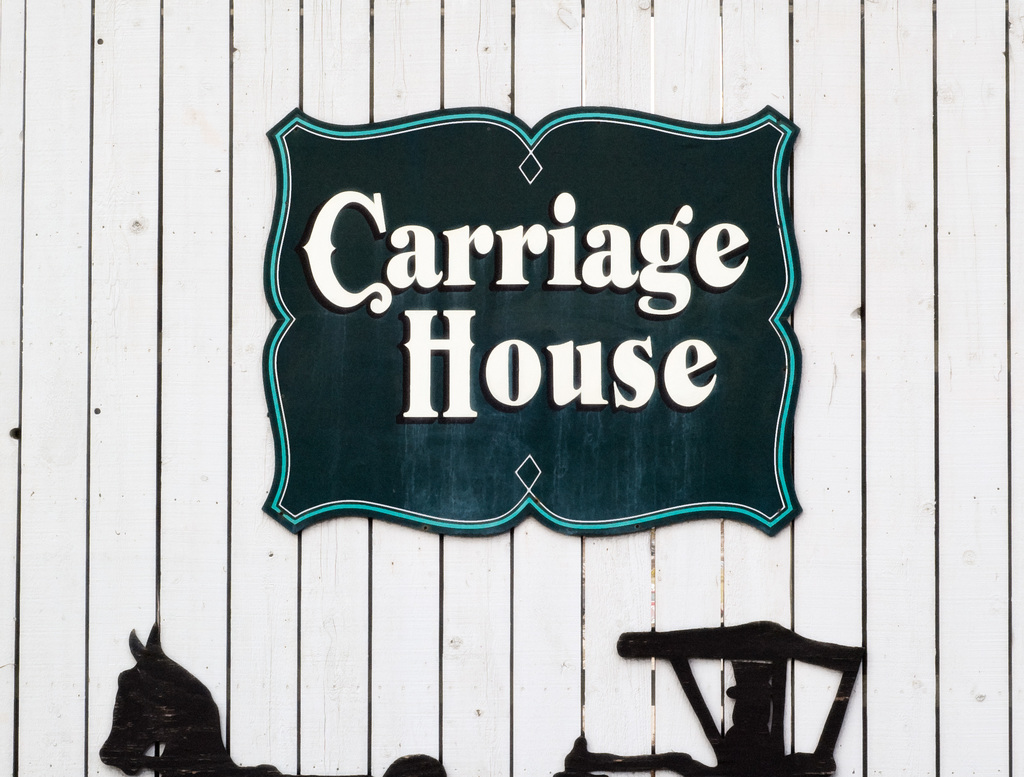Animal: (96, 616, 444, 775)
